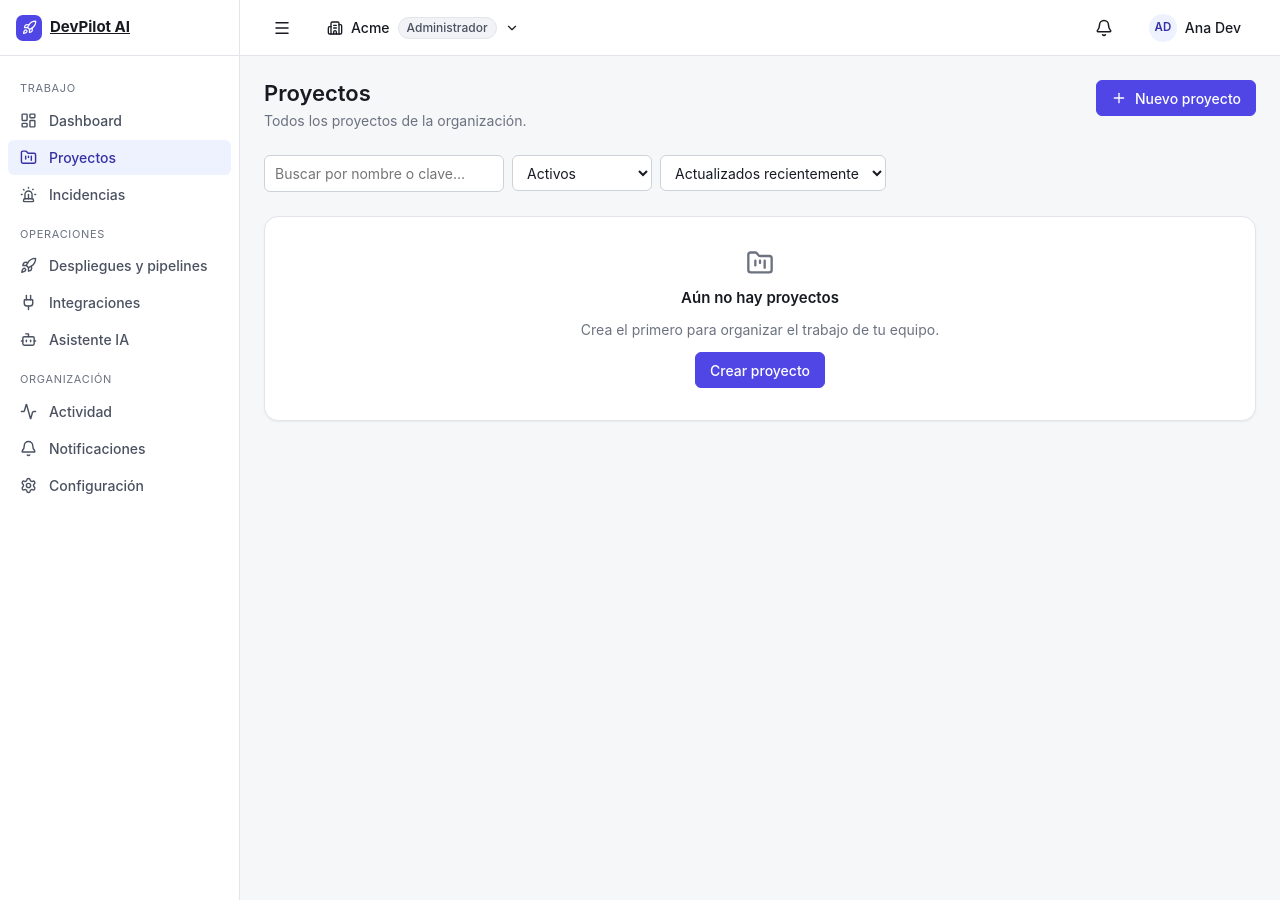
Test: projects permissions in the UI › shows the key-taken conflict on the key field
Click the button "Nuevo proyecto" at (1176, 98), box [1096,80,1256,116]
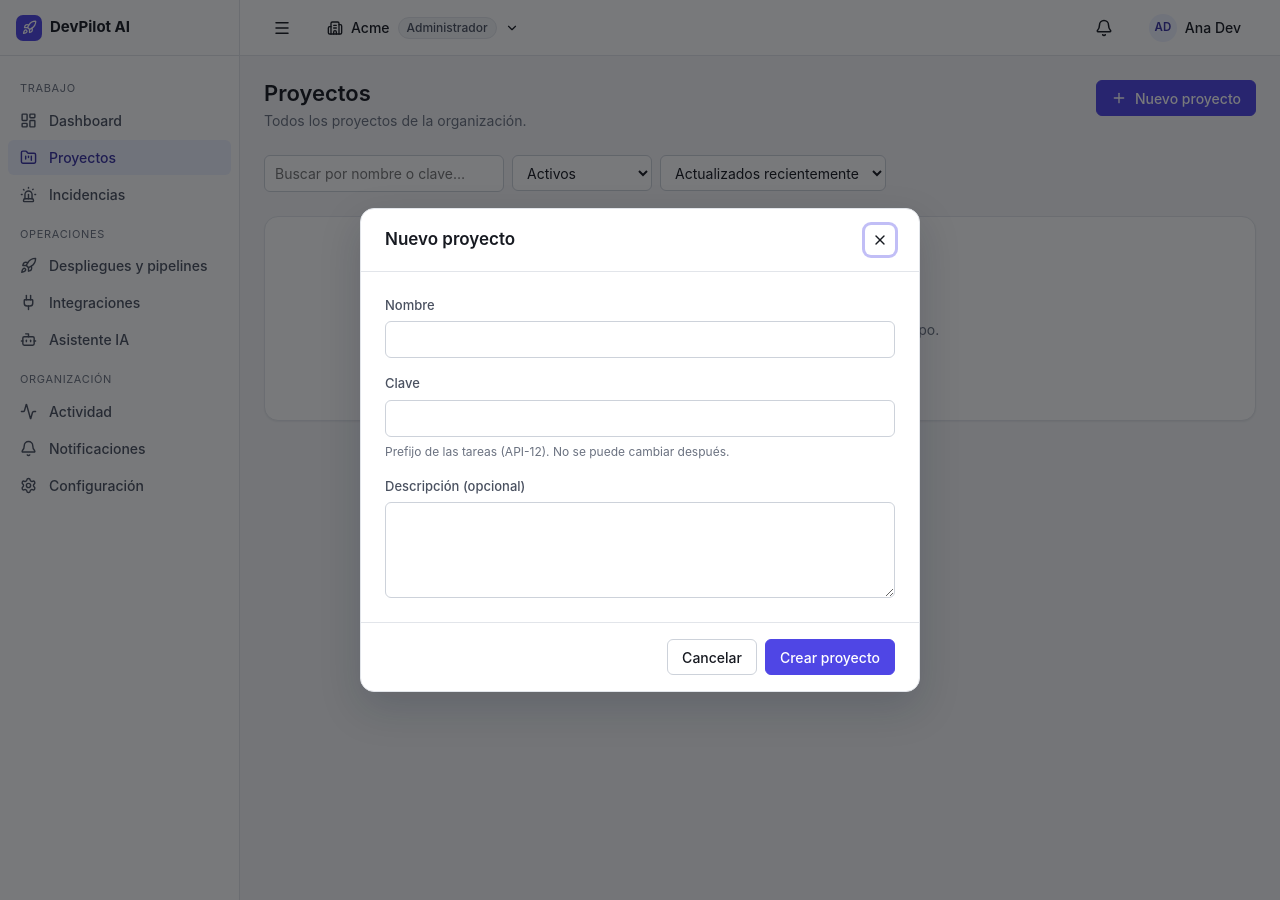
Type "Payments" into the field labelled "Nombre" at (640, 340), box [385,321,895,358]
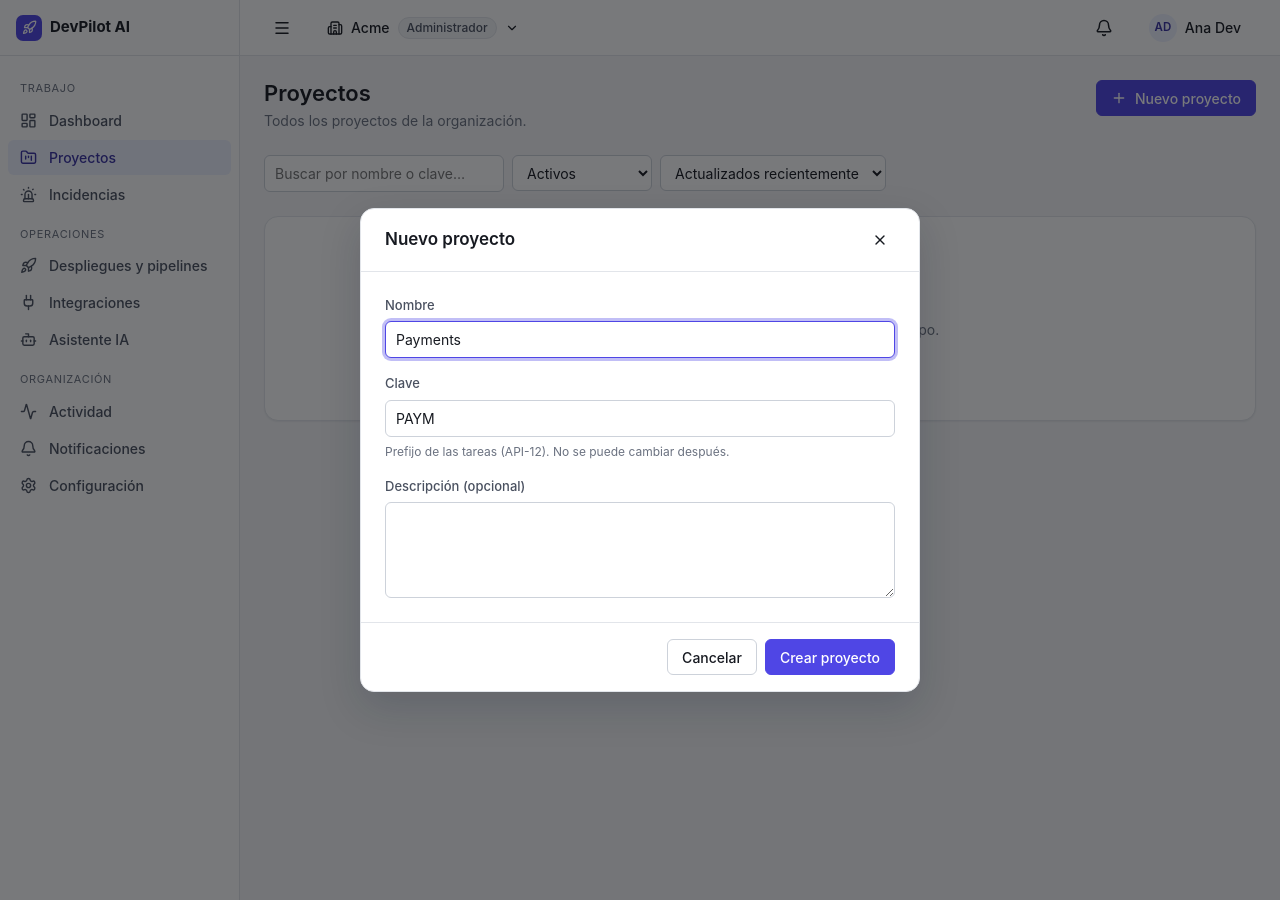
Click the button "Crear proyecto" at (830, 657), box [765,639,895,675]
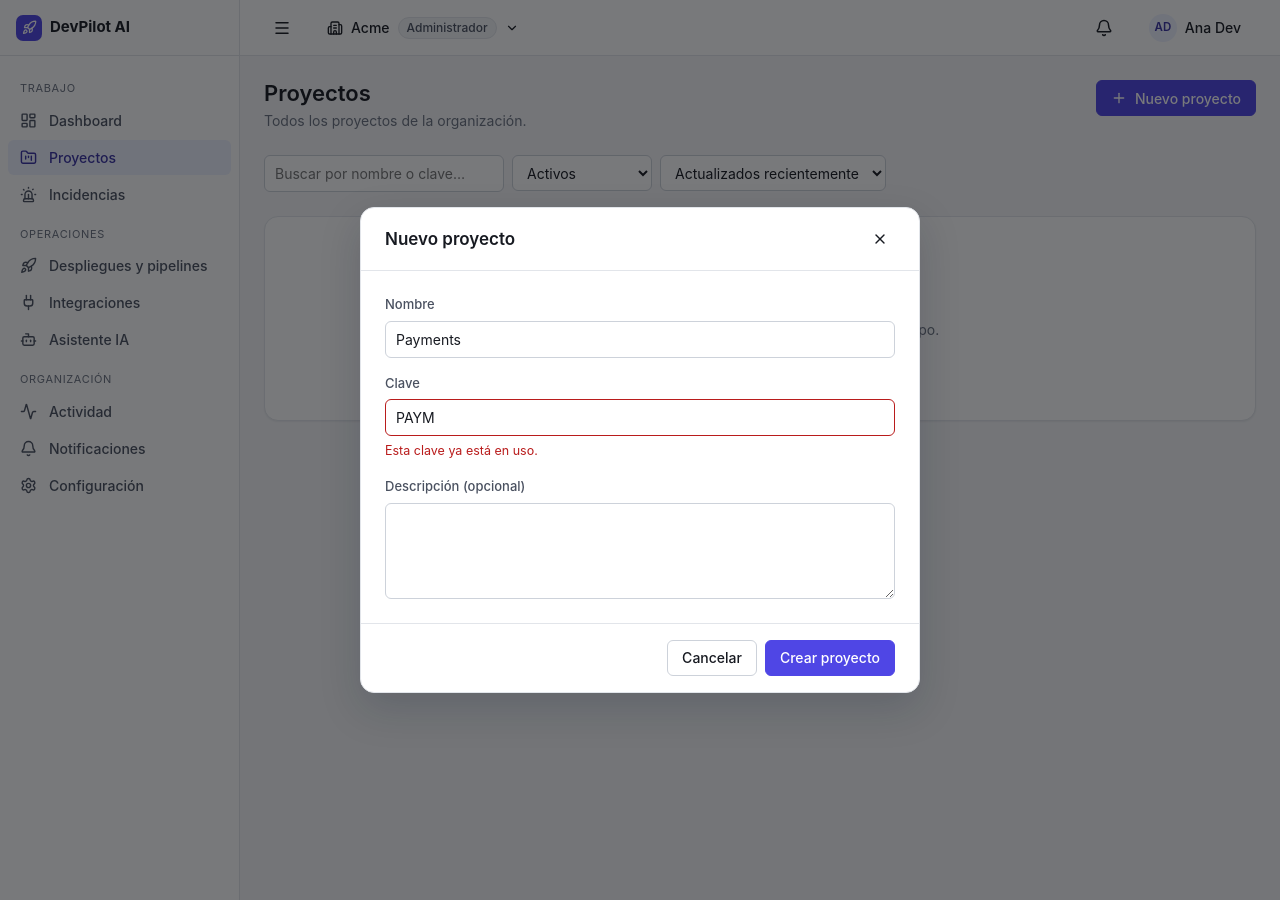
Check: the text "Esta clave ya está en uso." is shown, box [385,443,538,458]
